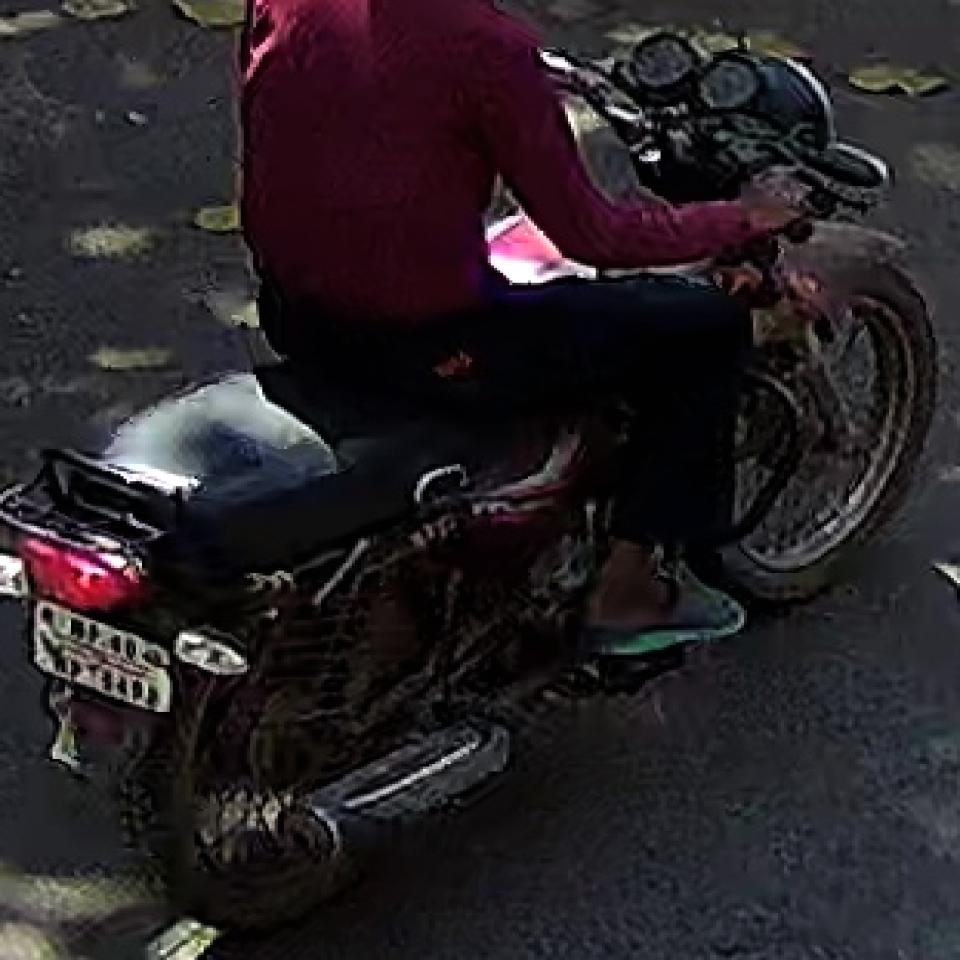tail_light: (23, 530, 138, 602)
